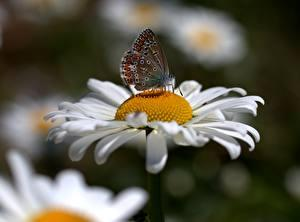chamomile: (50, 62, 252, 160), (0, 178, 123, 222)
